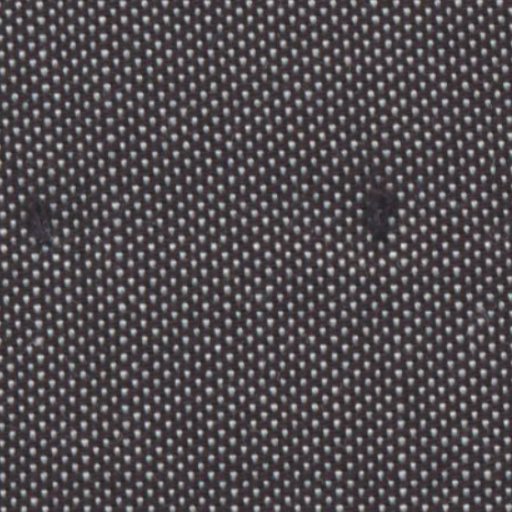MianQiu: (350, 167, 400, 250), (16, 178, 64, 258)
